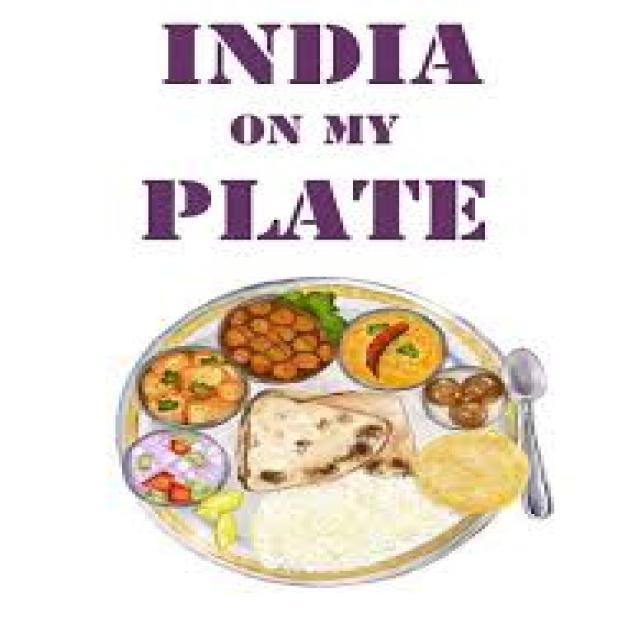dal: (408, 425, 536, 512), (329, 309, 451, 392)
papad: (249, 478, 437, 578)
rice: (250, 475, 448, 574)
roti: (229, 389, 407, 495)
sweet: (120, 429, 237, 497)
